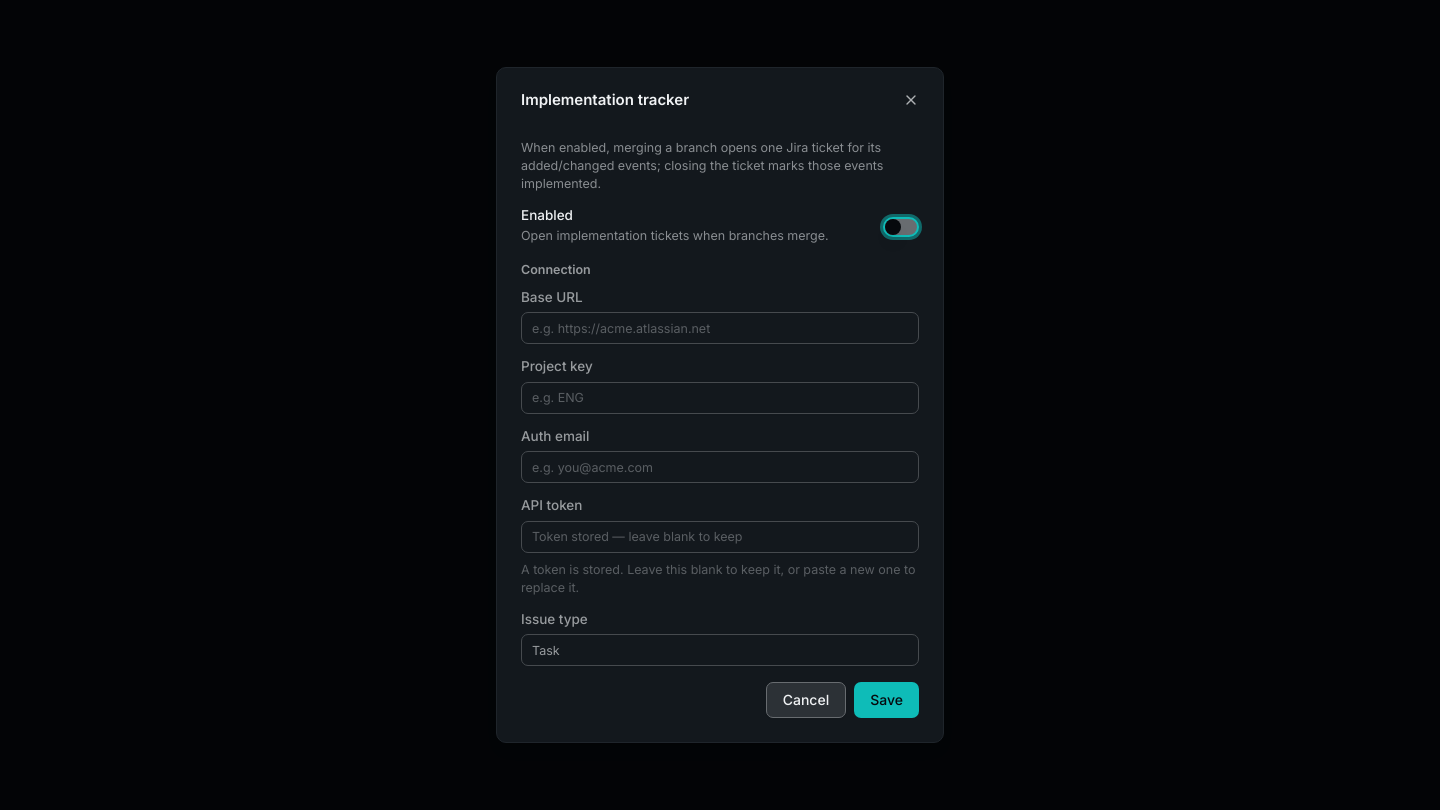
TrackerConfigDialog › requires the connection fields before a tracker can be enabled (PLAN-21)
The image size is (1440, 810).
Click the switch named "Enabled".
click(901, 227)  # box [883,217,919,237]
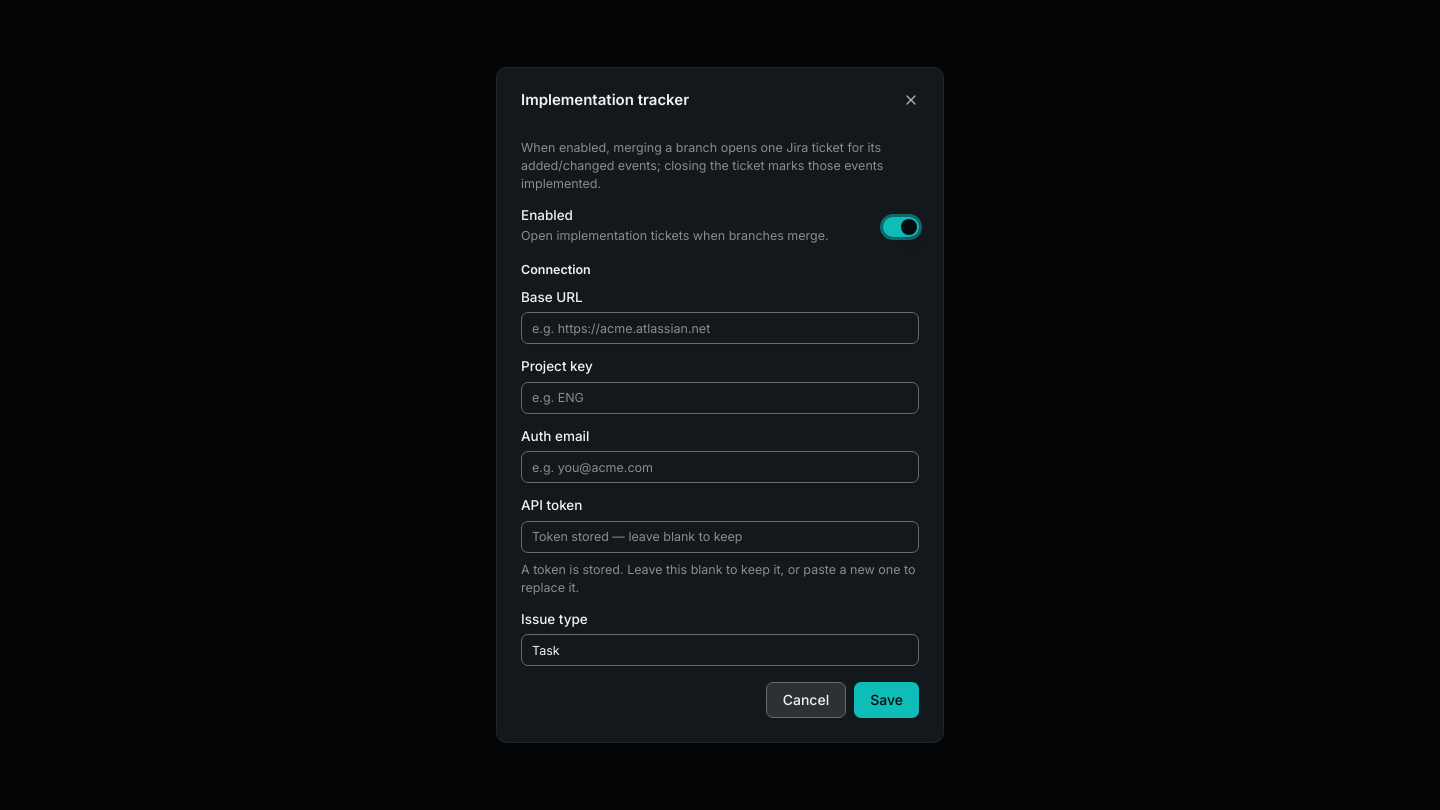
Click the button "Save".
click(887, 700)  # box [854,682,919,718]
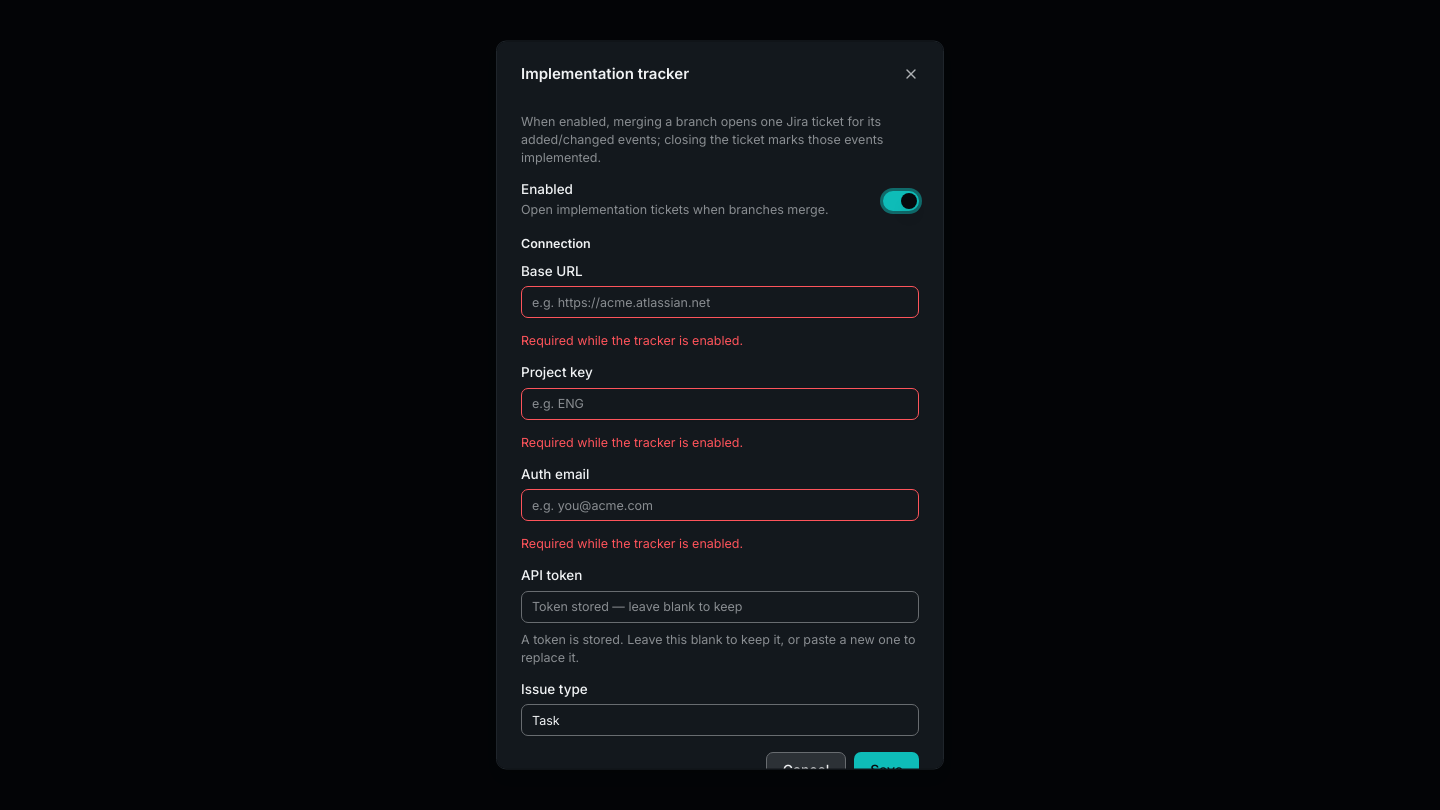
Now the text "Required while the tracker is enabled." is shown 3 times, box [521,332,743,348]; [521,434,743,449]; [521,536,743,551]
